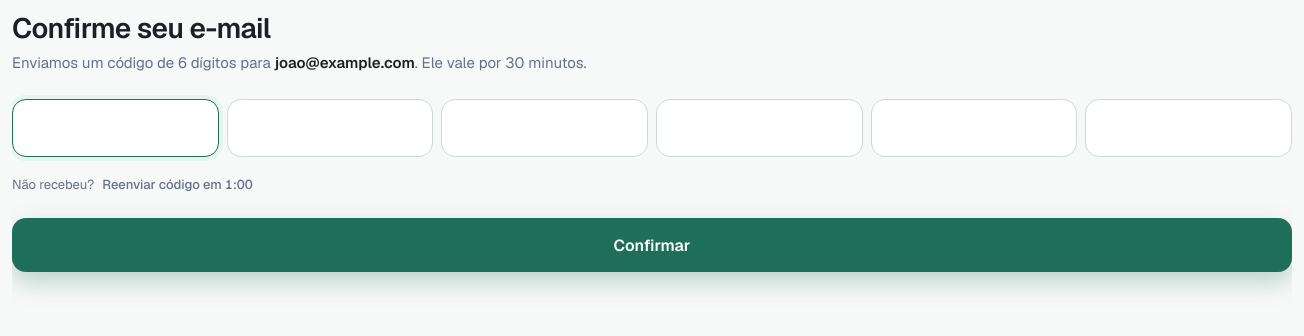
Test case: SignupStepConfirmation › submissão manual e validação › deve exigir os 6 dígitos ao clicar em Confirmar com o código incompleto
Type "1" into the field named "Dígito 1 de 6" at x=115, y=128, box [12, 99, 219, 157]
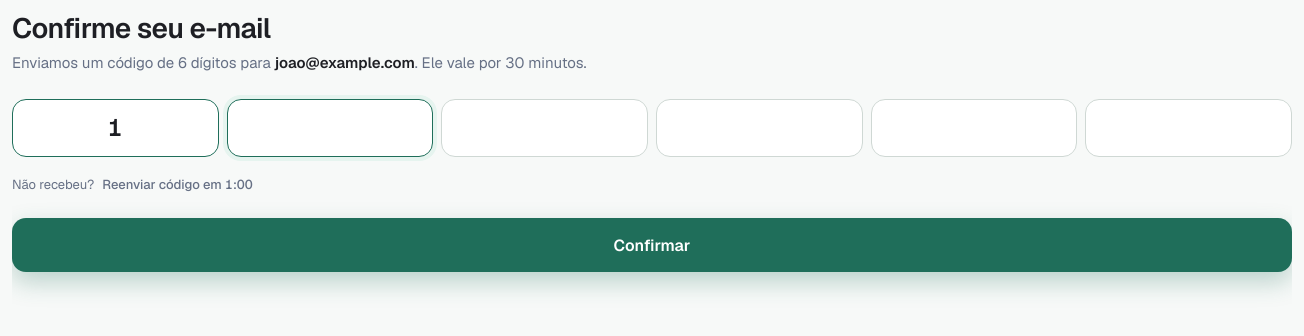
Type "2" into the field named "Dígito 2 de 6" at x=330, y=128, box [227, 99, 433, 157]
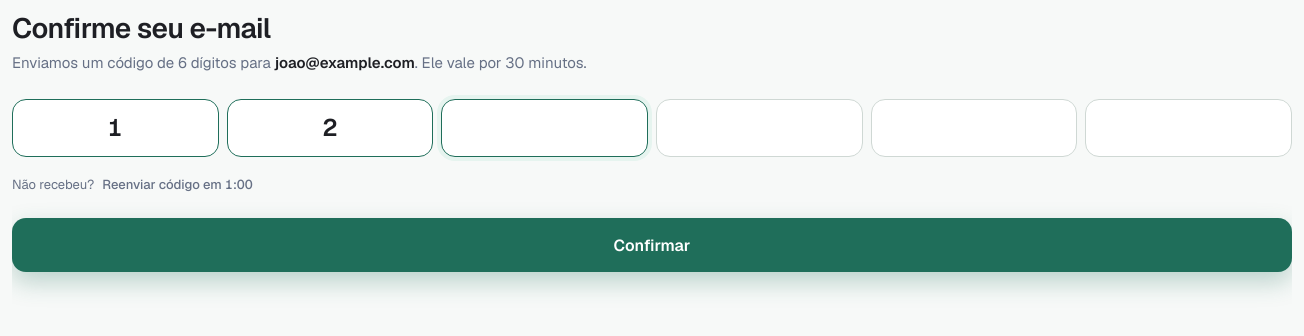
Click the button "Confirmar" at x=652, y=245, box [12, 218, 1292, 272]
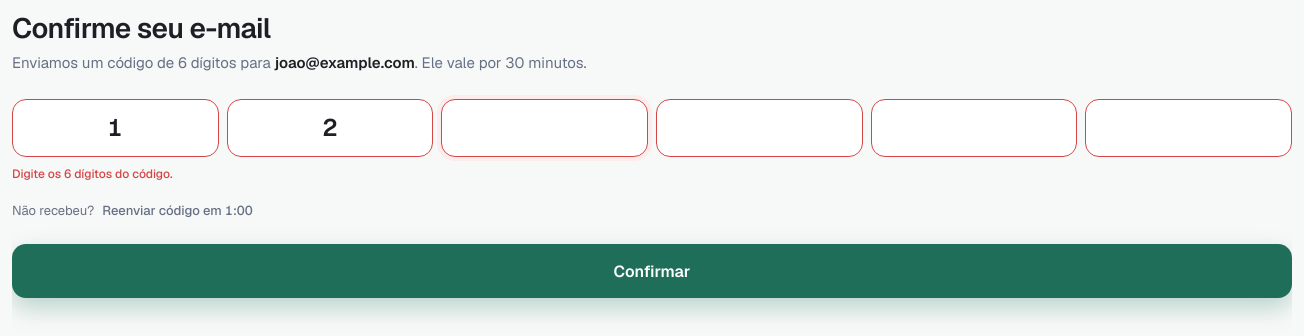
Check: the message reads "Digite os 6 dígitos do código.", box [12, 166, 173, 182]
